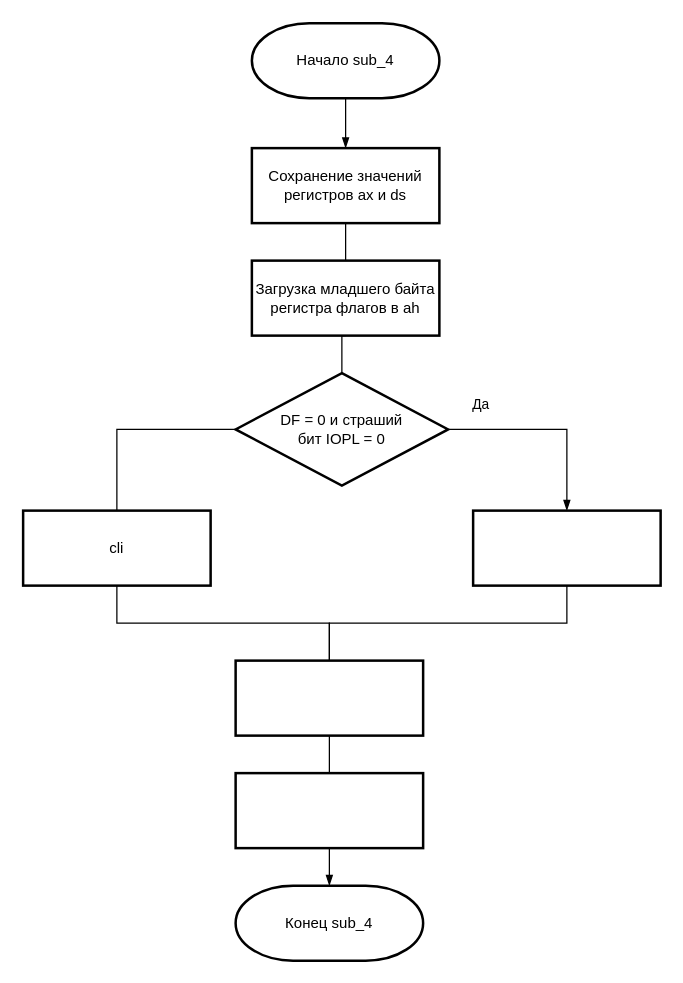
Some shapes in this 683 by 983 pixel diagram are drawn without their labels. Each missing label, with the box of its shape:
Восстановление значений регистров ax и ds: (234, 771, 424, 849)
Загрузка ah в младший байт регистра флагов: (234, 659, 424, 736)
сброс IF: (471, 509, 661, 586)
